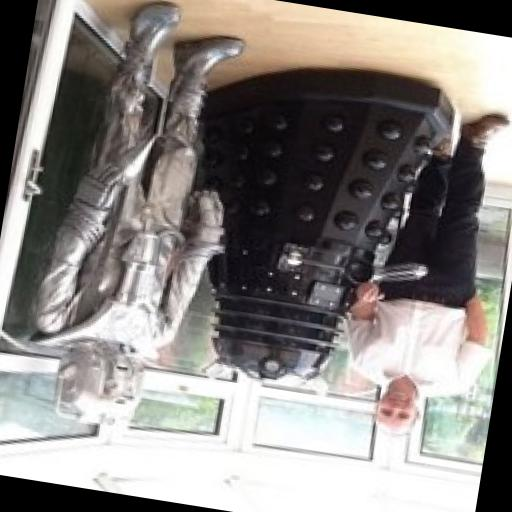dalek: (162, 43, 465, 414)
